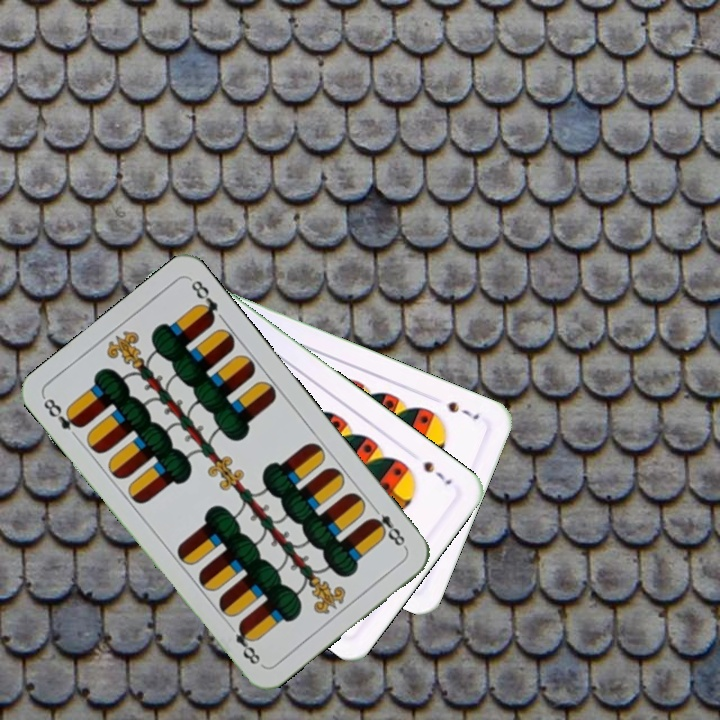E8: (365, 501, 409, 552), (39, 393, 86, 433)
S7: (419, 457, 455, 488), (444, 397, 482, 423)
